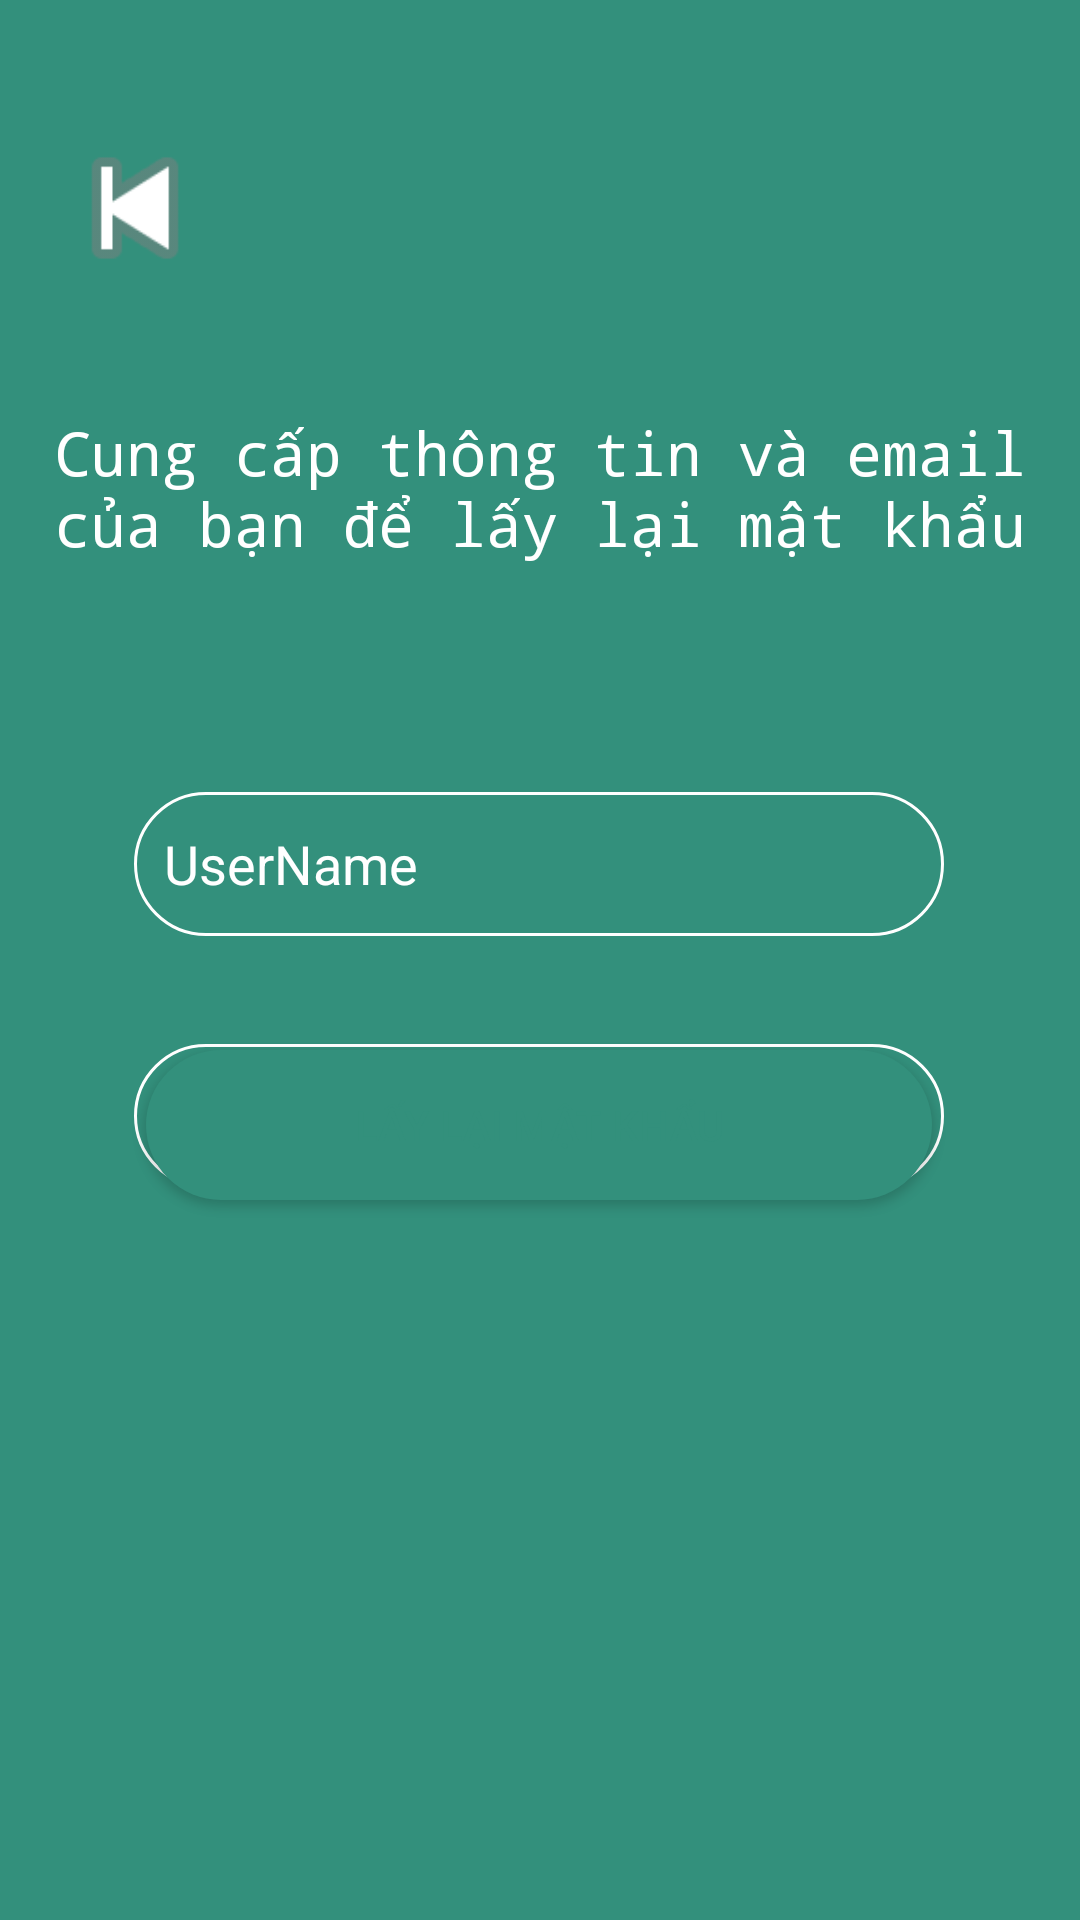

Screen size 1080 x 1920. Icon name, then its box in pixels as (x1,y1,x2,y2):
previous: (92,158,178,258)
